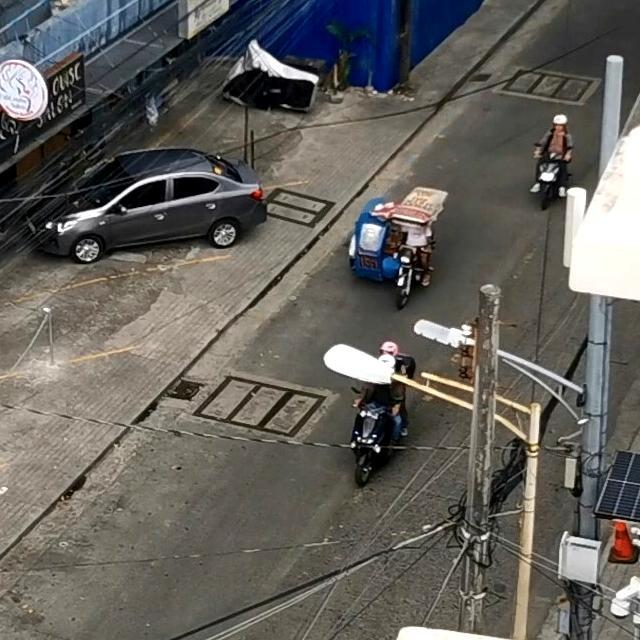Motorcycle: (347, 382, 407, 484), (528, 136, 575, 211)
